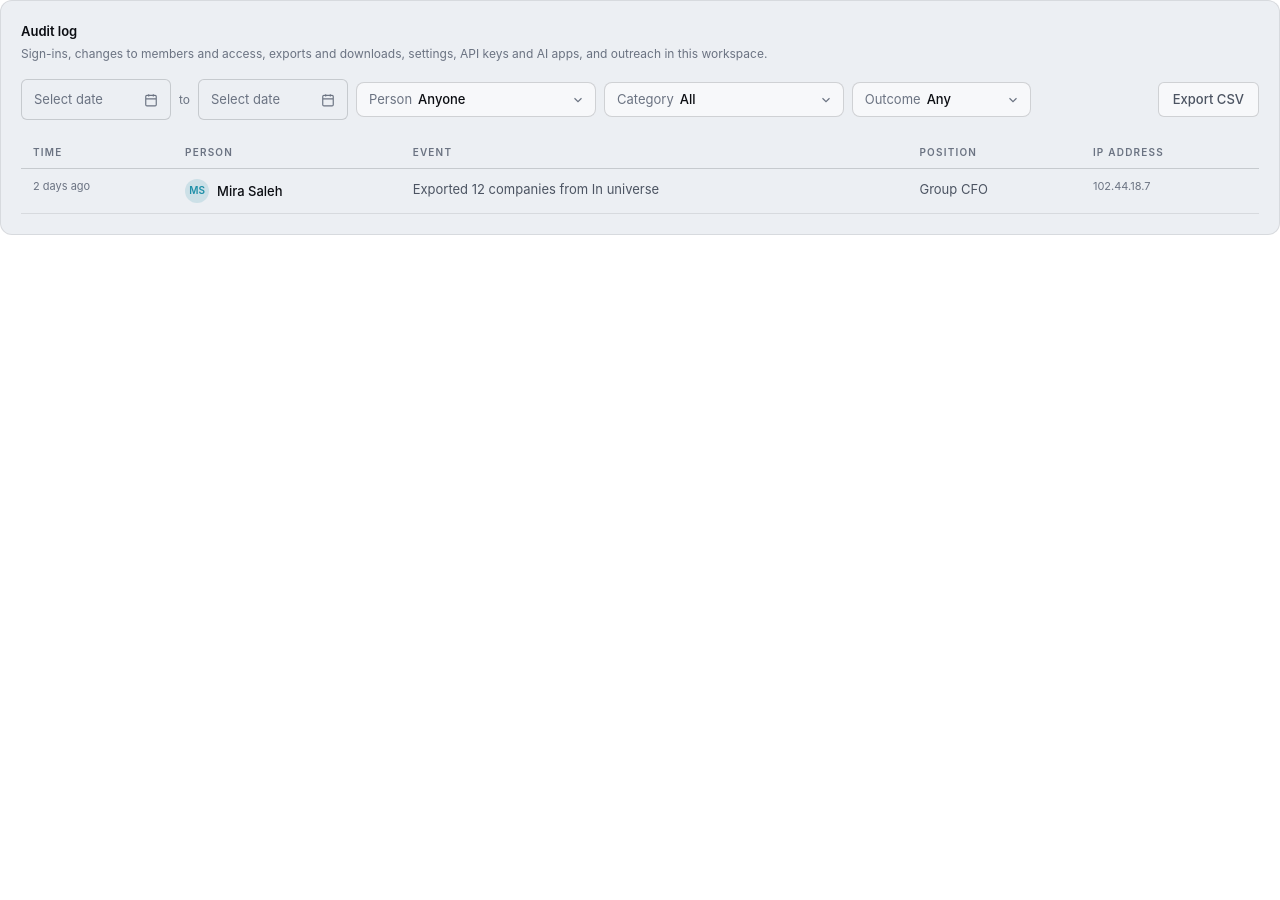
Test: AuditLogPanel › exports the filtered view and says the export was recorded
The image size is (1280, 900).
Expected: the text "Exported 12 companies from In universe" is shown, [413,181,659,197]
Select "Exports & downloads" in the dropdown labelled "Category" at x=761, y=100, box [680,83,843,116]
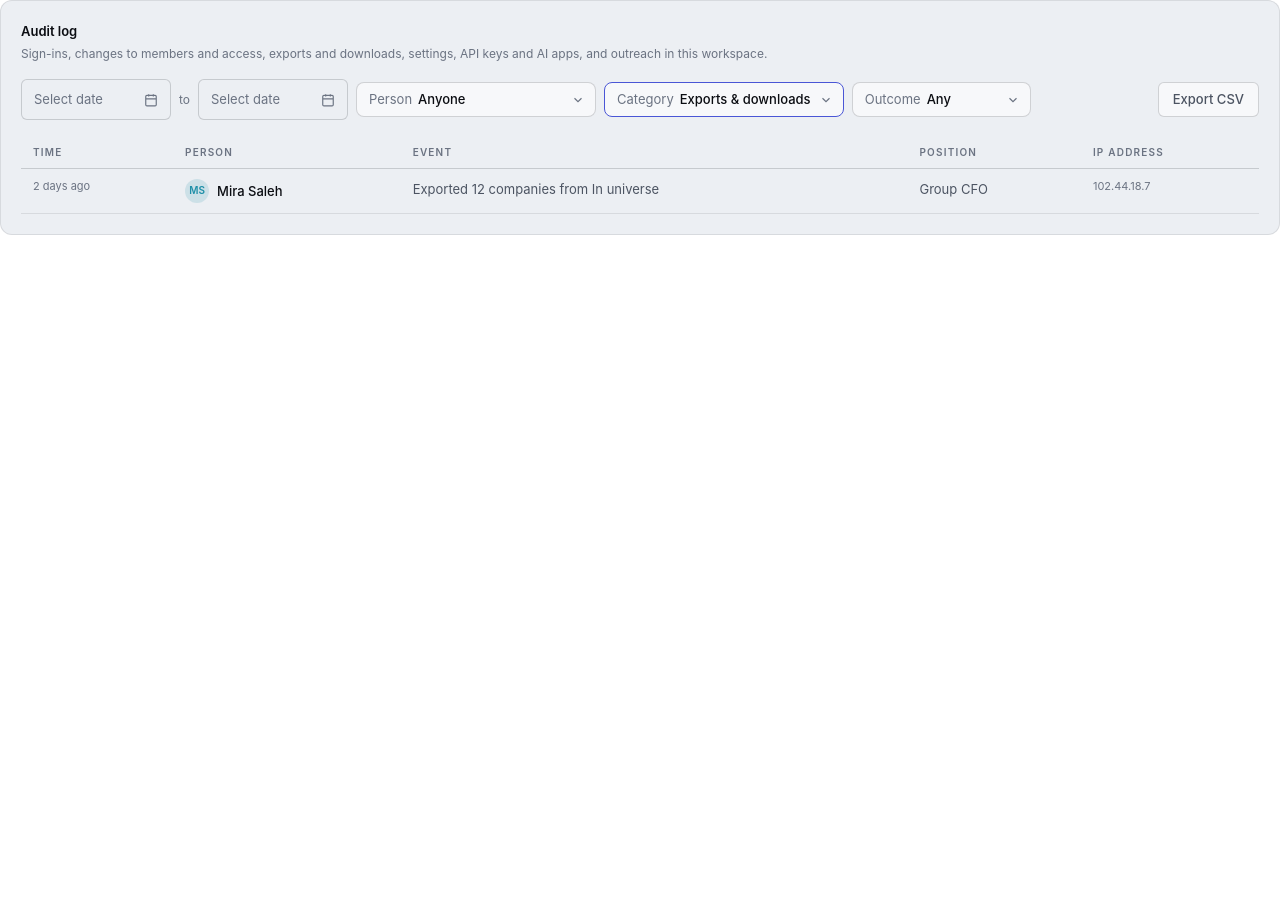
Click the button "Export CSV" at x=1208, y=100, box [1158,82,1259,117]
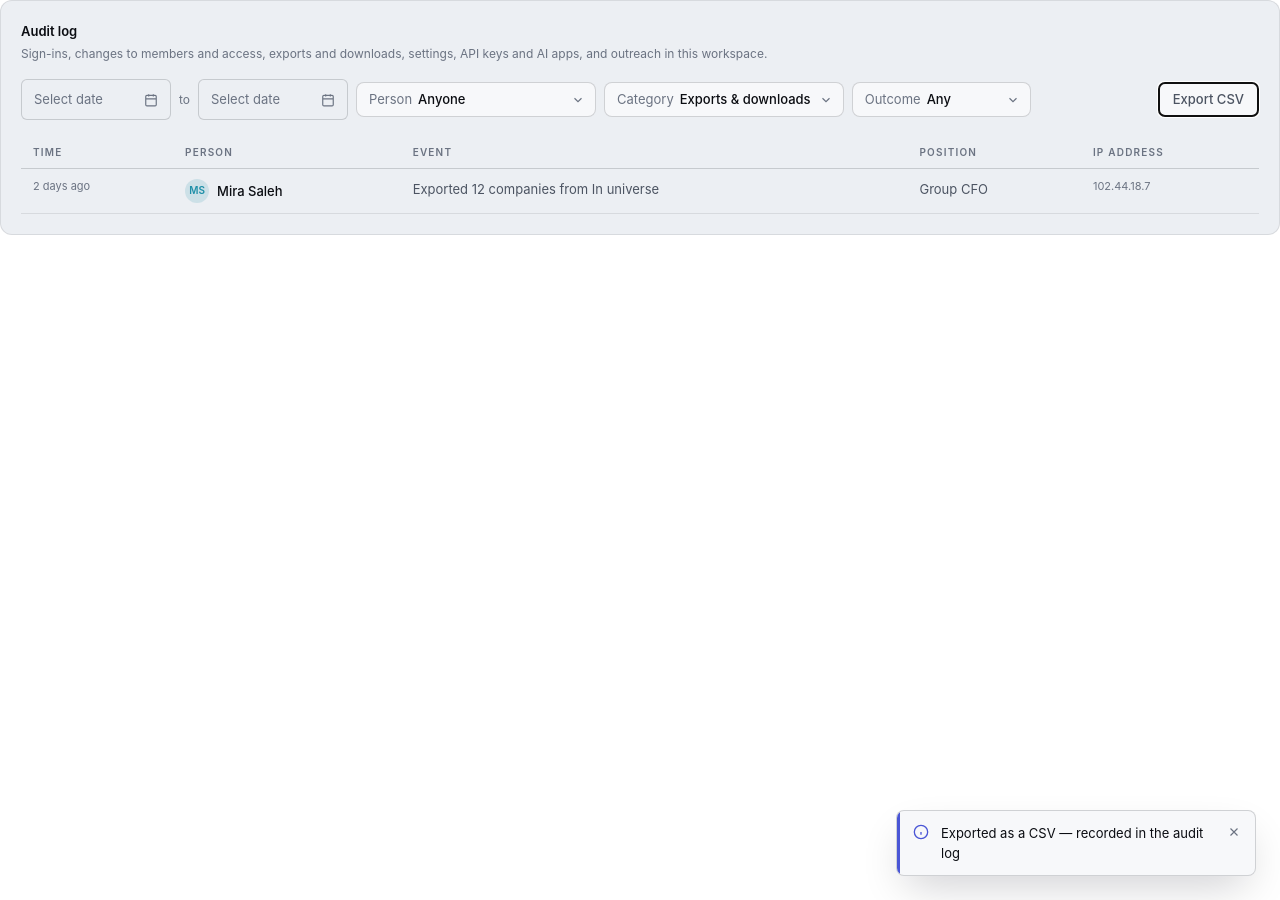
Now the text "Exported as a CSV — recorded in the audit log" is shown, box [941,823,1211,863]
